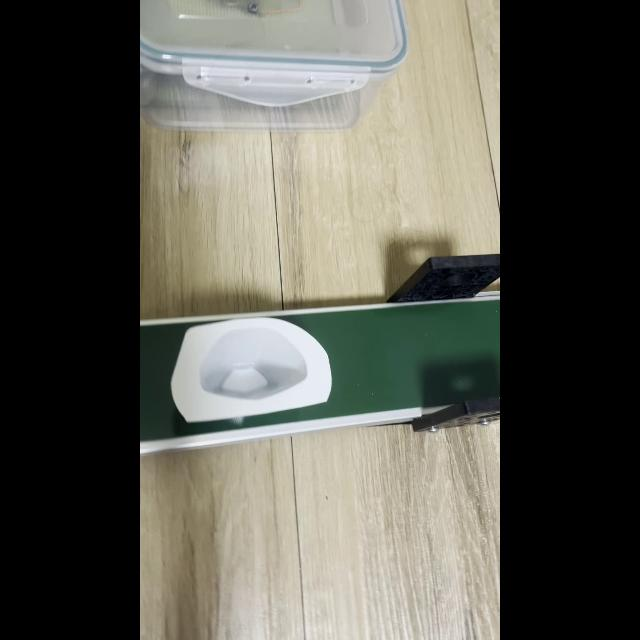clean: (169, 317, 331, 423)
